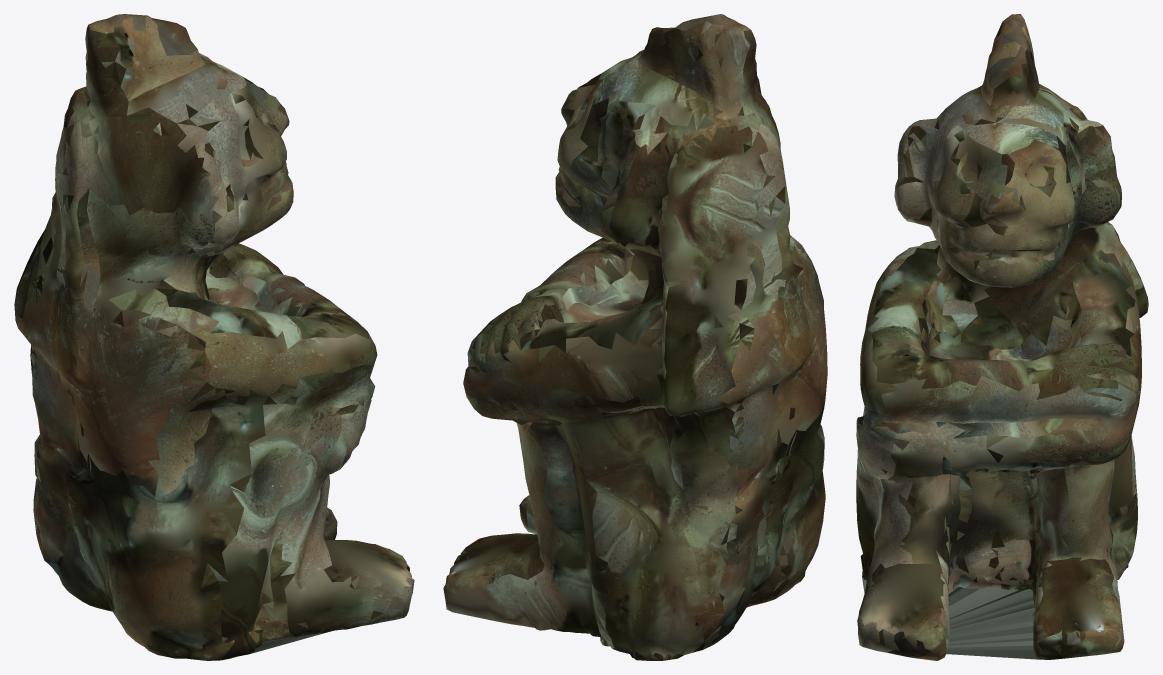
The picture shows the model from 3 angles, left to right: view 1: azimuth 30°, elevation 25°; view 2: azimuth 150°, elevation 25°; view 3: azimuth 270°, elevation 25°; orthographic projection. The views are drawn at different scales.
Parts seen in each view (by area): view 1: BMMictlantecuhtliFigure02; view 2: BMMictlantecuhtliFigure02; view 3: BMMictlantecuhtliFigure02.
Boxes of the visible parts, x1,y1,x2,y2 form: BMMictlantecuhtliFigure02: (14, 14, 414, 660); BMMictlantecuhtliFigure02: (443, 14, 827, 660); BMMictlantecuhtliFigure02: (856, 14, 1148, 660).
Size of the model in its own units: 2 by 3.7 by 1.82.
